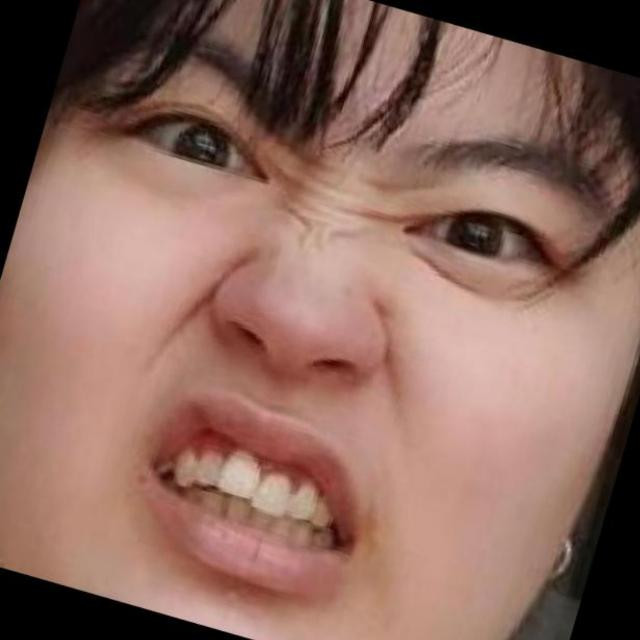Angry: (44, 45, 587, 640)
